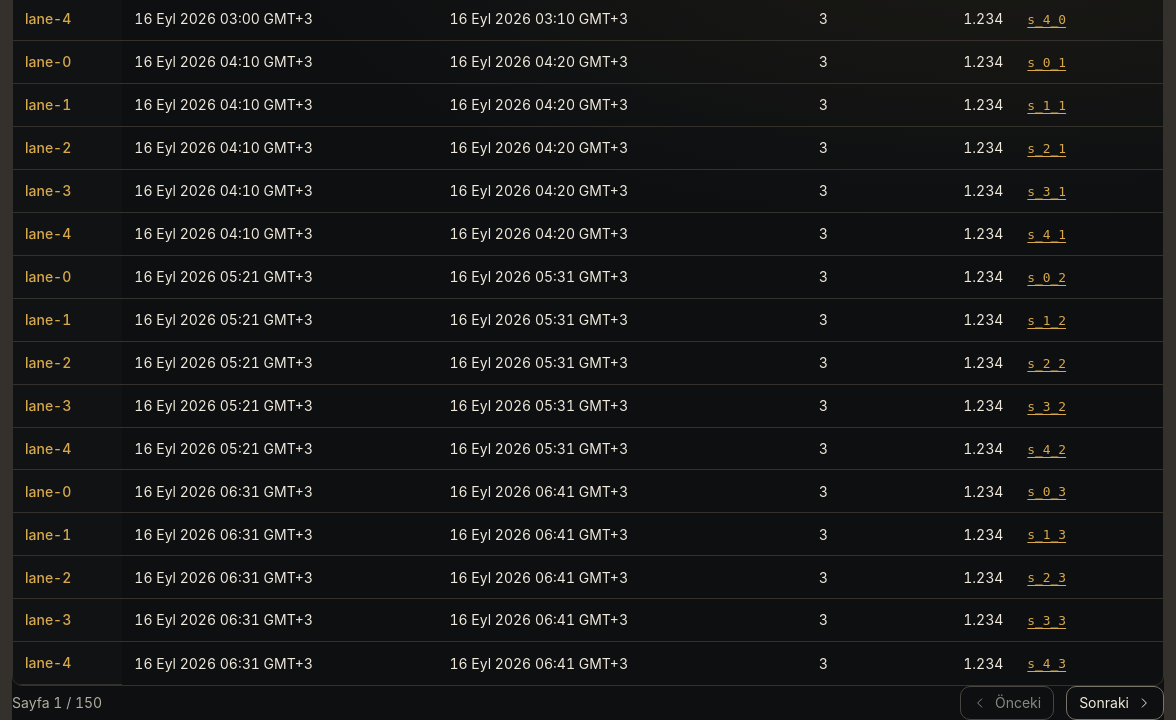
Scenario: Timeline › keeps the DOM bounded with 3000 intervals: one svg chart, paginated table
(page scrolled)
Click the button "Sonraki" at {"x": 1115, "y": 703}, box [1066,686,1164,719]
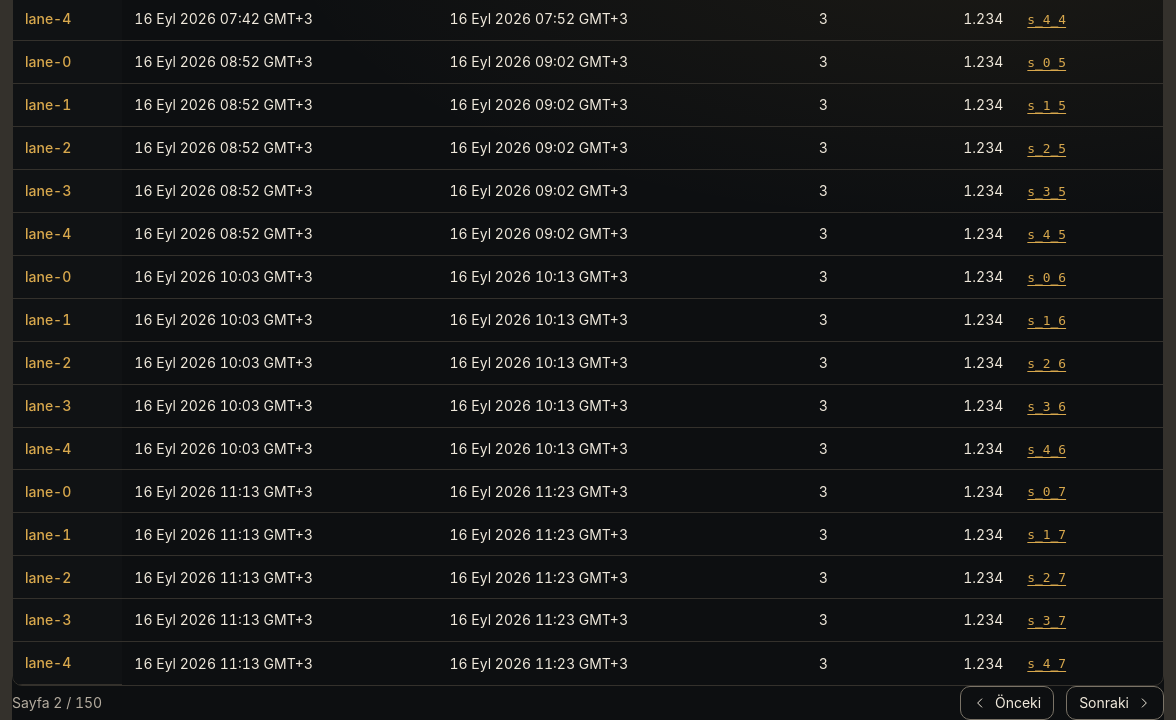
Now the text "Sayfa 2 / 150" is shown, box [12,692,102,714]
